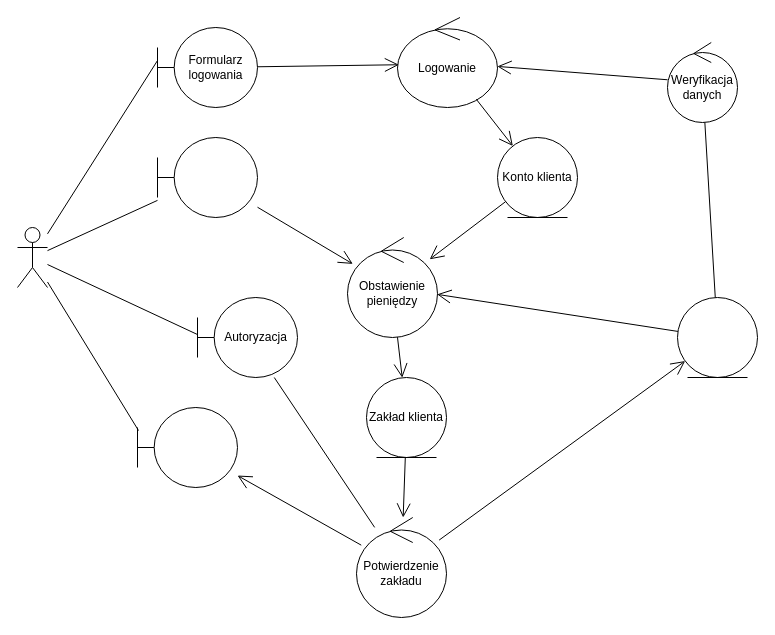
This 775x635 diagram has some shape labels left out. The shapes that lost their labels are listed below. From the top down, each one's centre as x and y in pixels, then its label:
the point at 207,177: Oferta zakładu
the point at 32,257: Klient
the point at 717,337: Baza danych
the point at 187,447: Lista obstawionych zakładów
